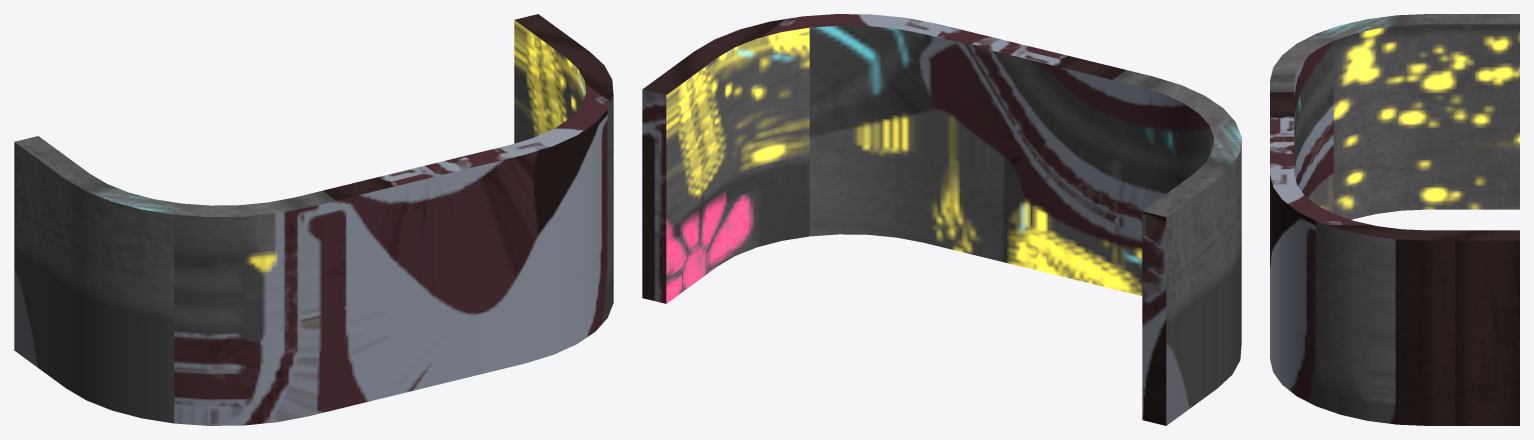
The model's file is duct_vert.fbx.
3 renders of one model, left to right at view 1: azimuth 30°, elevation 25°; view 2: azimuth 150°, elevation 25°; view 3: azimuth 270°, elevation 25°, orthographic. The views are drawn at different scales.
Visible parts, largest first — view 1: duct_vert_01.002; view 2: duct_vert_01.002; view 3: duct_vert_01.002.
Part boxes in pixels (<box>): duct_vert_01.002: <box>14,14,613,425</box>; duct_vert_01.002: <box>642,14,1241,425</box>; duct_vert_01.002: <box>1270,14,1519,425</box>.
Bounding box in the file's own units: 4661 × 1776 × 2171.
